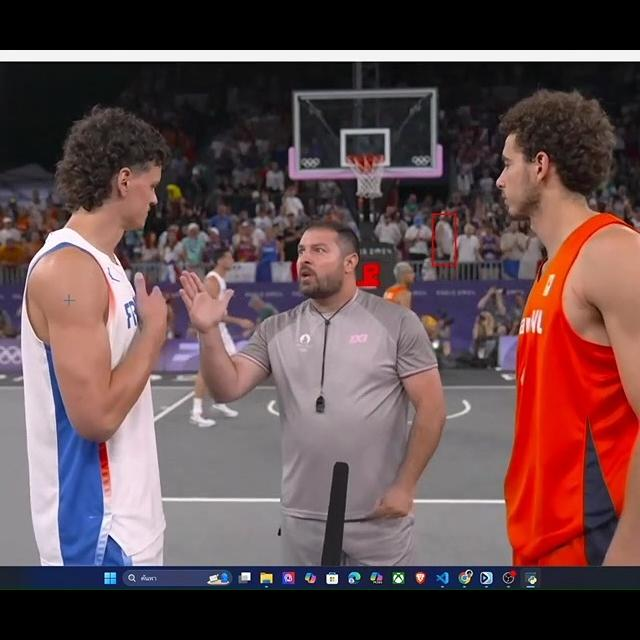hoop: (350, 150, 385, 197)
